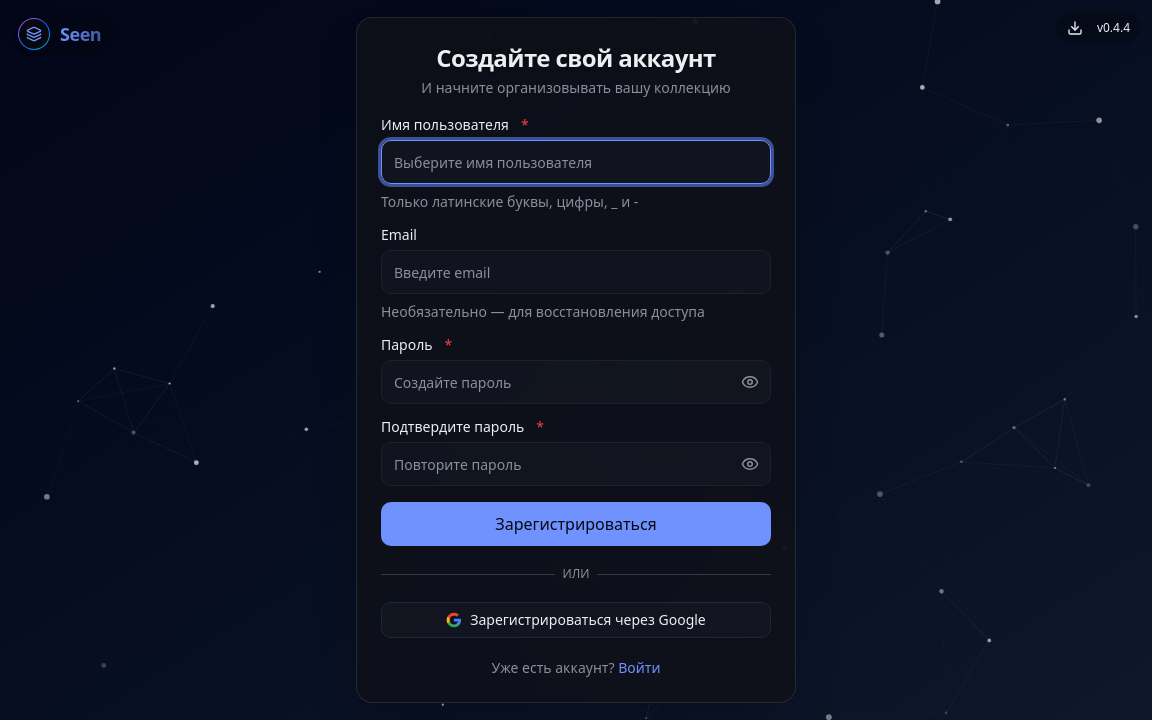
RegisterPage › should validate email format when provided
The width and height of the screenshot is (1152, 720).
Type "invalid-email" into the field labelled "Email".
click(576, 272); type("invalid-email")  # box [381,250,771,294]
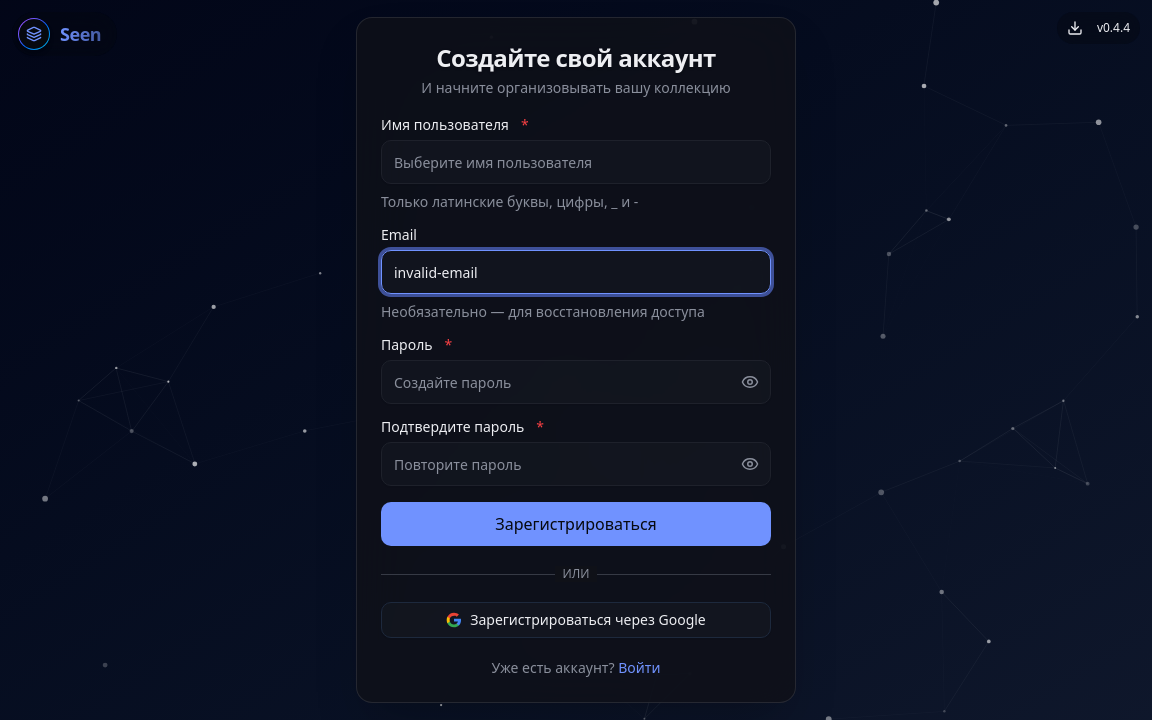
Click the button "Зарегистрироваться".
click(576, 524)  # box [381,502,771,546]
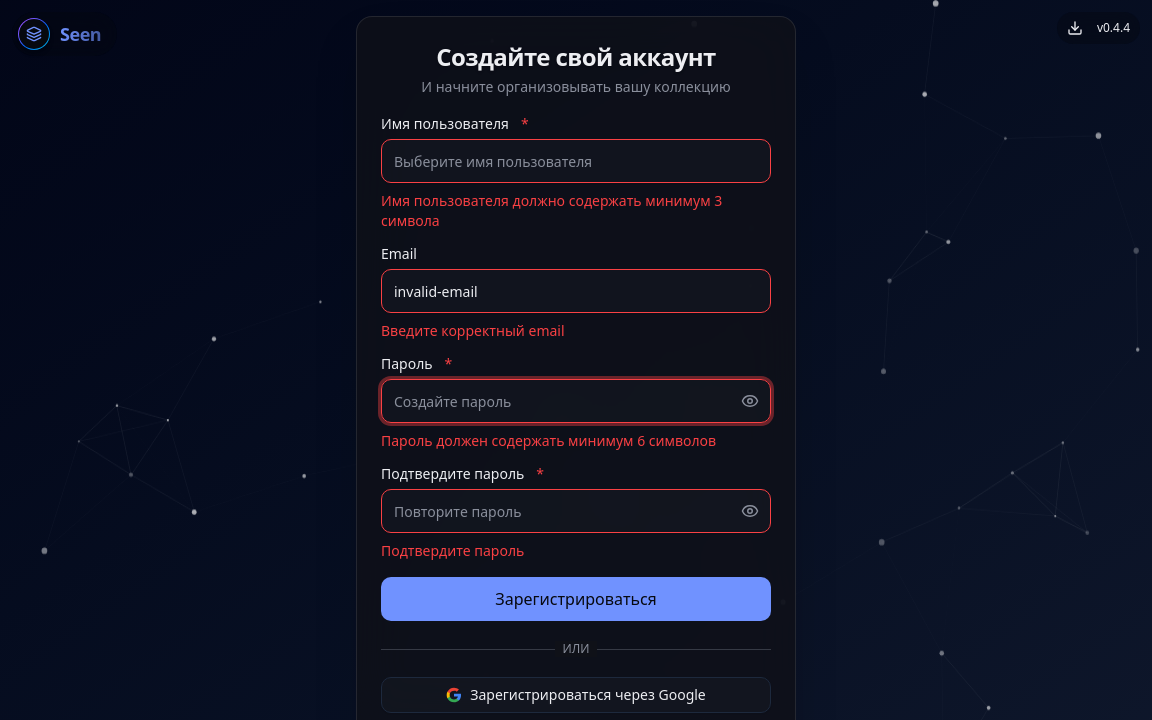
Now the text "Введите корректный email" is shown, box [381,321,565,340]
